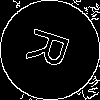R: (25, 25, 80, 74)
